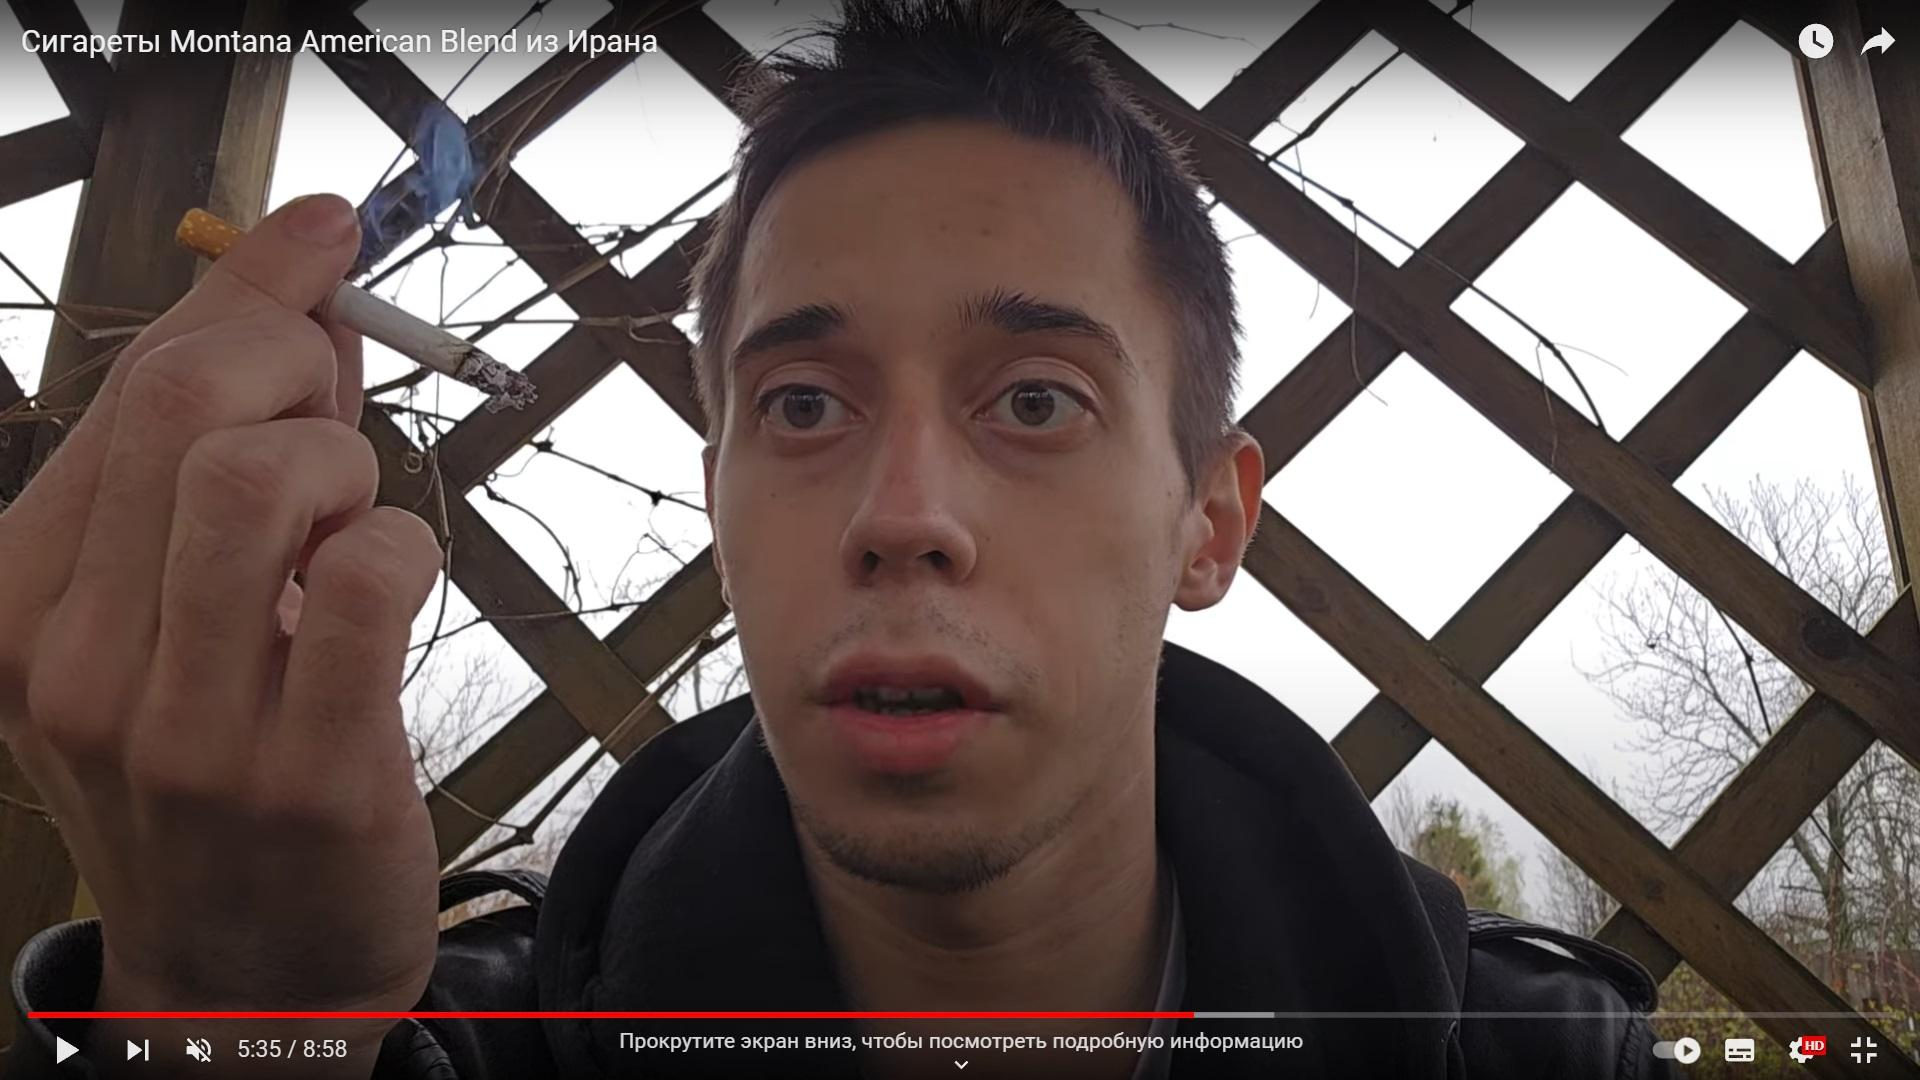cigarette: (173, 207, 538, 415)
